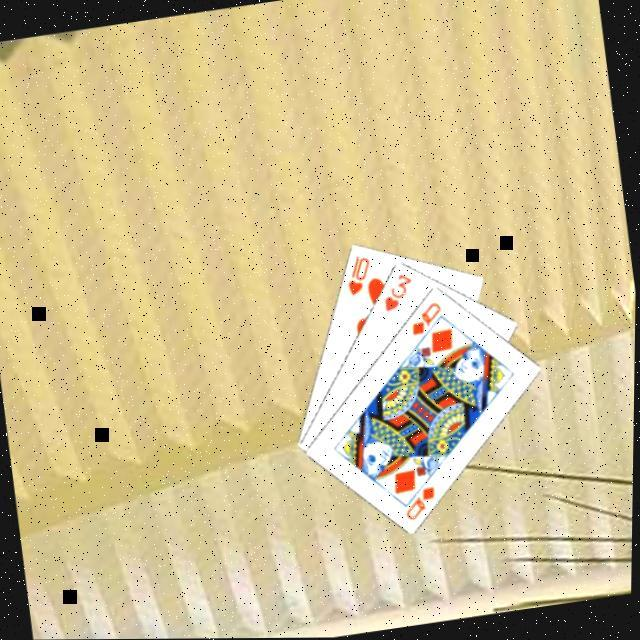10H: (339, 254, 376, 302)
3H: (376, 271, 418, 318)
QD: (399, 485, 442, 527), (404, 301, 446, 341)
